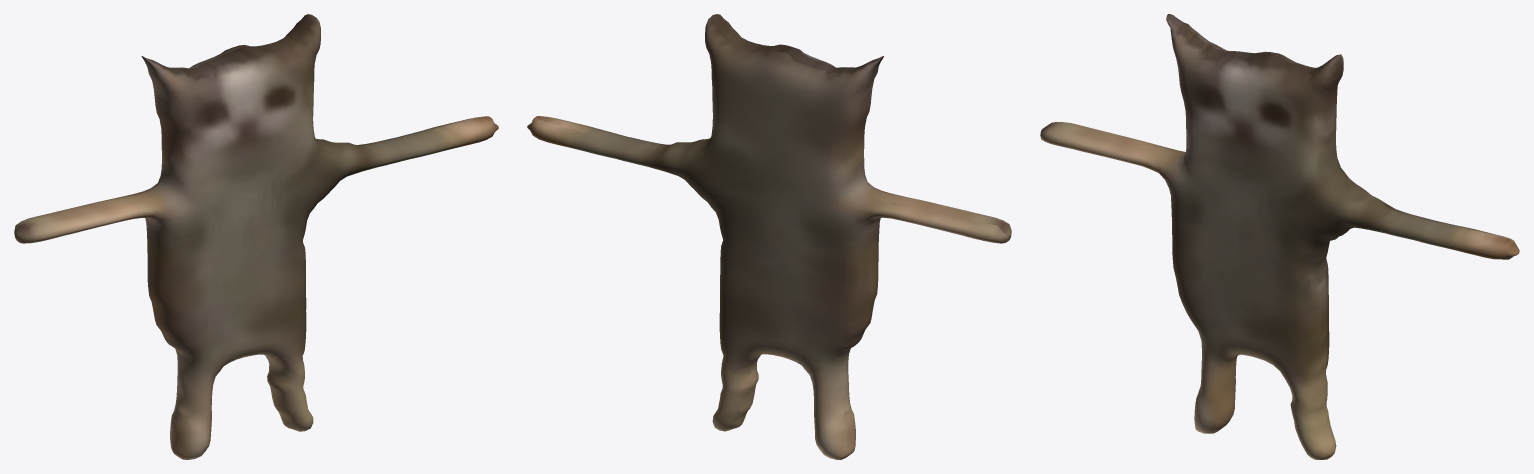
The model's file is Cat.fbx.
3 renders of one model, left to right at view 1: azimuth 30°, elevation 25°; view 2: azimuth 150°, elevation 25°; view 3: azimuth 330°, elevation 25°, orthographic.
Parts seen in each view (by area): view 1: Cat; view 2: Cat; view 3: Cat.
Part boxes in pixels (<box>): Cat: <box>14,14,498,459</box>; Cat: <box>527,14,1011,459</box>; Cat: <box>1040,14,1519,459</box>.
Bounding box in the file's own units: 38.28 × 31.26 × 3.85.
